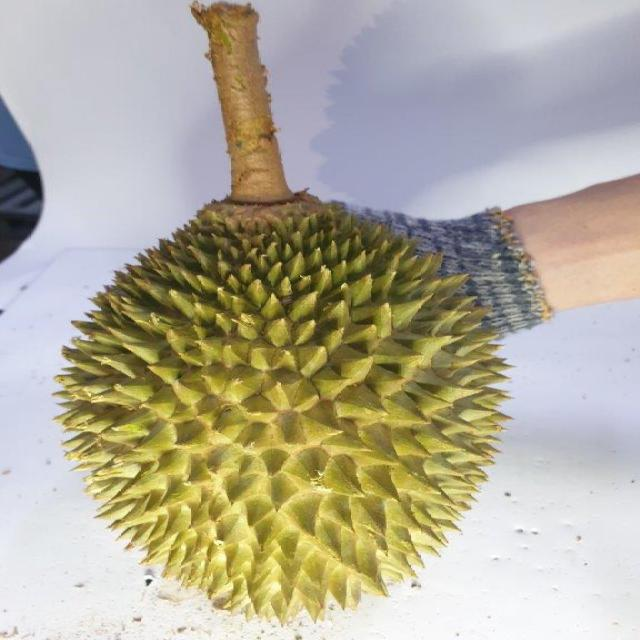immature: (41, 193, 508, 622)
